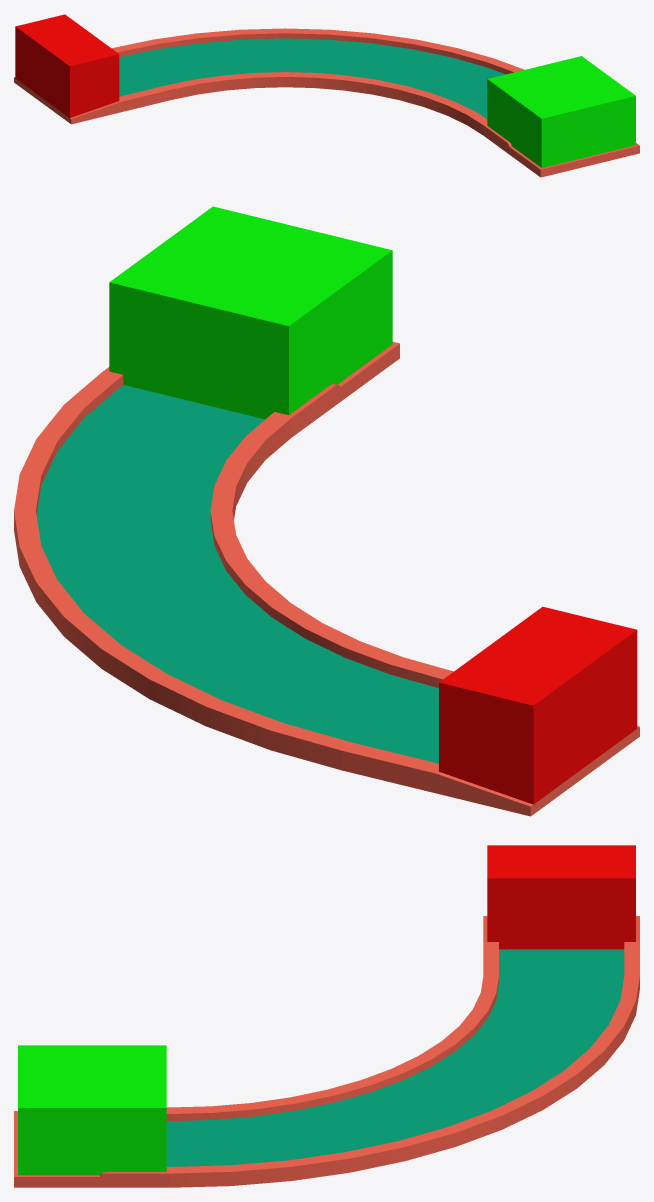
Rendered from track4.glb.
3 views of the same model, one above another, from view 1: azimuth 30°, elevation 25°; view 2: azimuth 150°, elevation 25°; view 3: azimuth 270°, elevation 25° (orthographic). The views are drawn at different scales.
Visible parts, largest first — view 1: bend_larger%, start_block, finish_block, start, start_closed; view 2: bend_larger%, start_block, finish_block, start, start_closed; view 3: bend_larger%, start_block, finish_block, start, start_closed.
Boxes of the visible parts, x1=… form: bend_larger%: x1=114, y1=28, x2=524, y2=135; start_block: x1=487, y1=56, x2=635, y2=167; finish_block: x1=15, y1=14, x2=119, y2=117; start: x1=14, y1=48, x2=170, y2=124; start_closed: x1=483, y1=124, x2=639, y2=177; bend_larger%: x1=14, y1=372, x2=450, y2=770; start_block: x1=109, y1=206, x2=392, y2=419; finish_block: x1=439, y1=606, x2=637, y2=804; start: x1=341, y1=670, x2=639, y2=816; start_closed: x1=102, y1=342, x2=399, y2=437; bend_larger%: x1=170, y1=975, x2=639, y2=1187; start_block: x1=18, y1=1045, x2=166, y2=1175; finish_block: x1=487, y1=845, x2=635, y2=949; start: x1=483, y1=916, x2=639, y2=982; start_closed: x1=14, y1=1107, x2=170, y2=1187.
Bounding box in the file's own units: 8 × 1.1 × 8.
